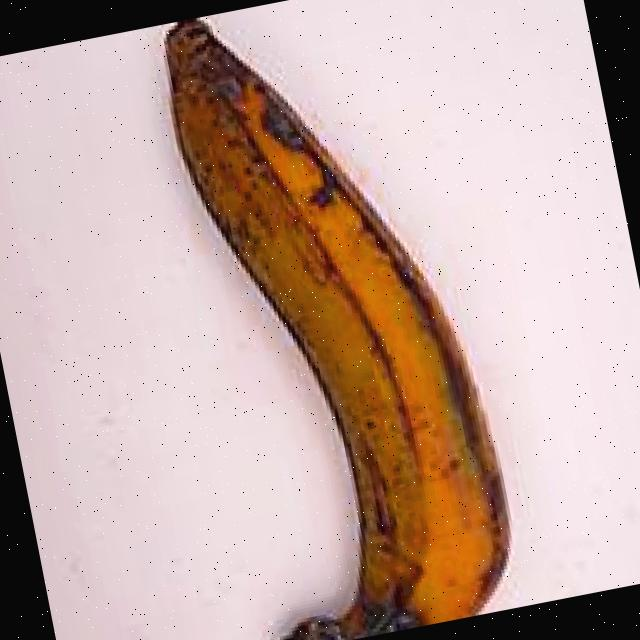Overripe: (62, 0, 577, 640)
